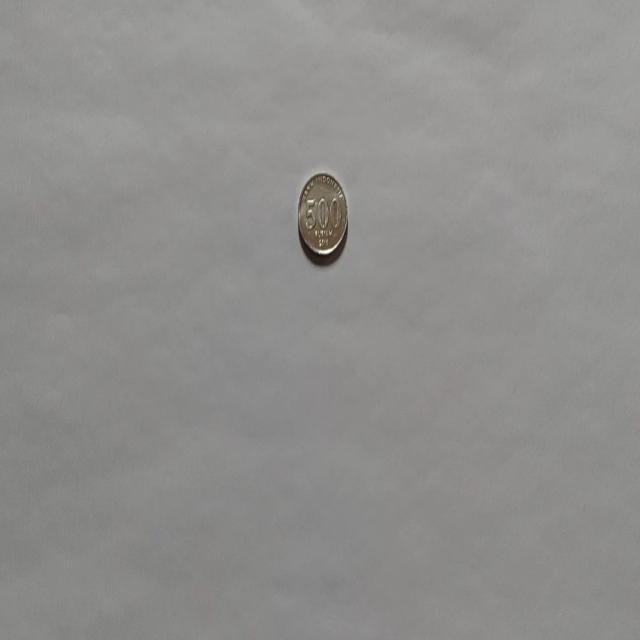lima ratus rupiah: (296, 170, 348, 260)
